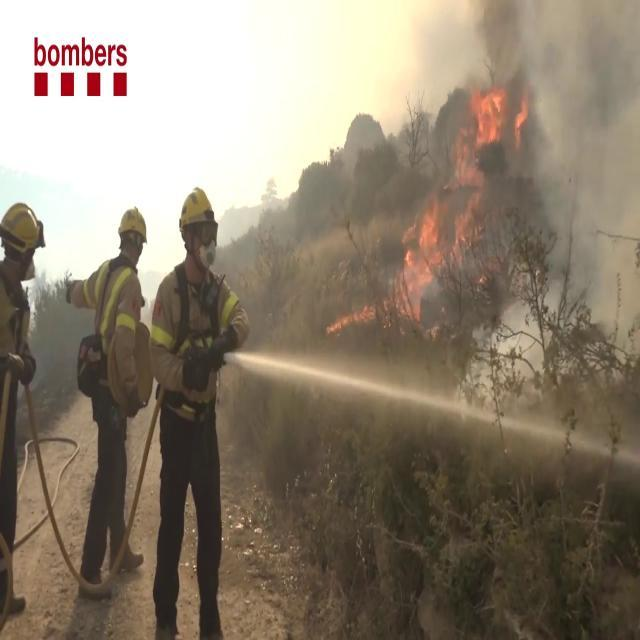Fire: (392, 148, 481, 328), (470, 72, 524, 154)
Smoke: (472, 0, 640, 329)
